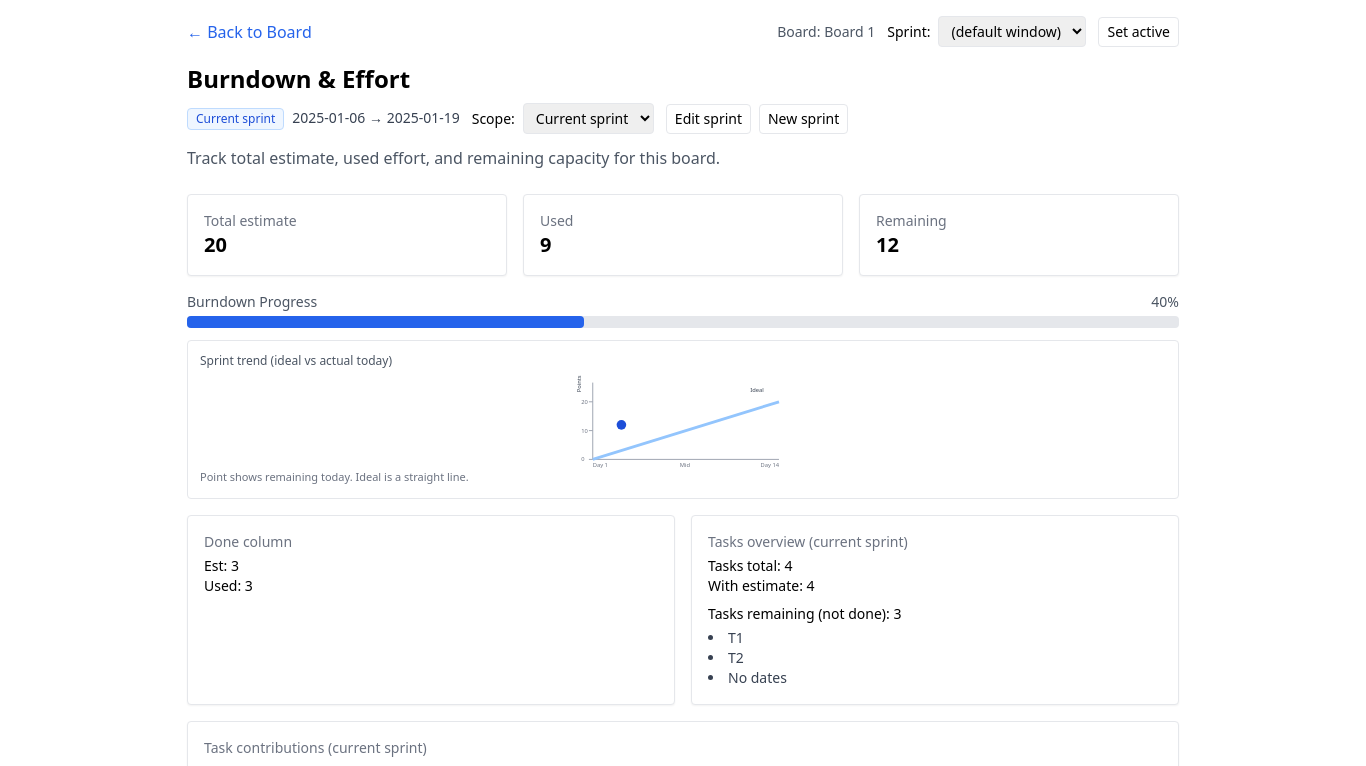
Test: BoardBurndown › sprint editor toggle has aria-expanded and controls the panel
The image size is (1366, 766).
expect the text "Total estimate" is shown: met, box x1=204 y1=211 x2=297 y2=230
Click the button "Edit sprint": (708, 118) x1=666 y1=104 x2=751 y2=134
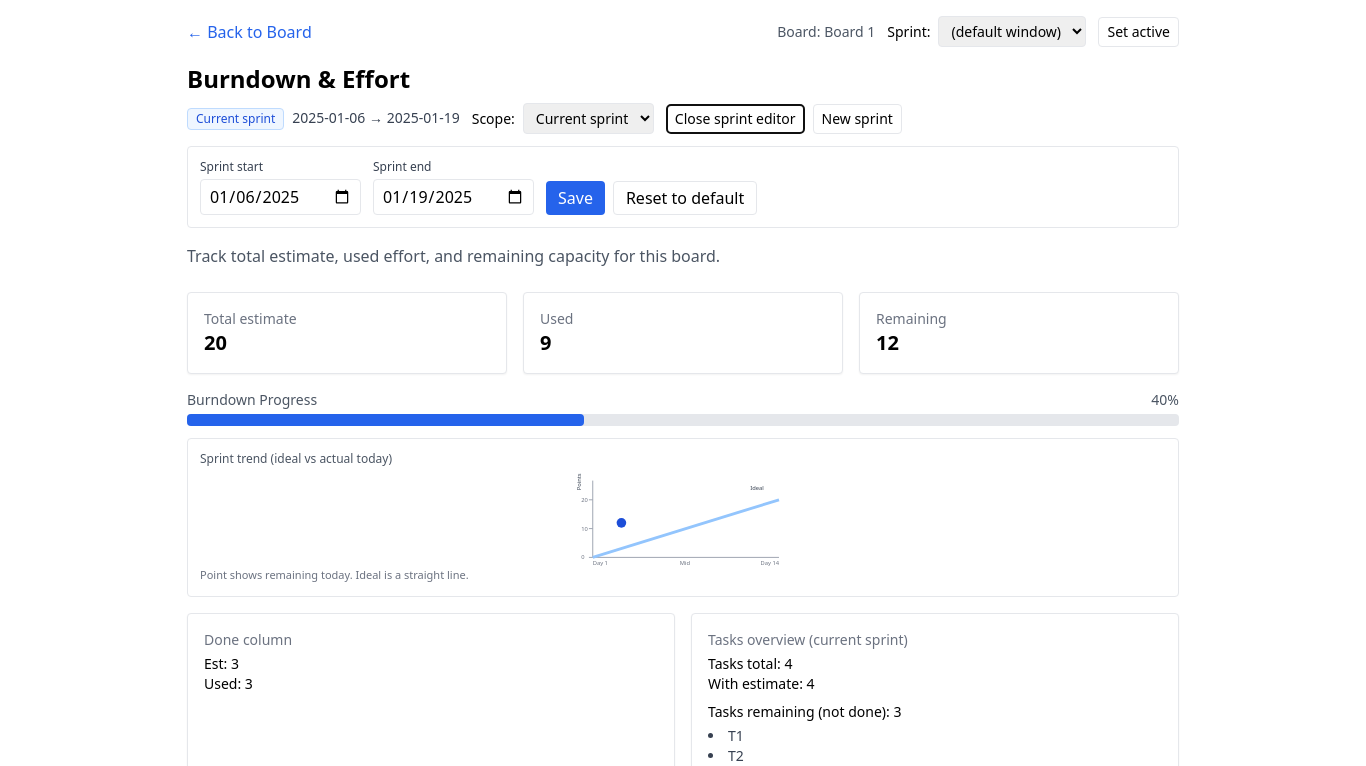
expect the button named "edit sprint" is expanded: met, box x1=666 y1=104 x2=805 y2=134
expect the date field labelled "Sprint start" is shown: met, box x1=200 y1=179 x2=361 y2=215
